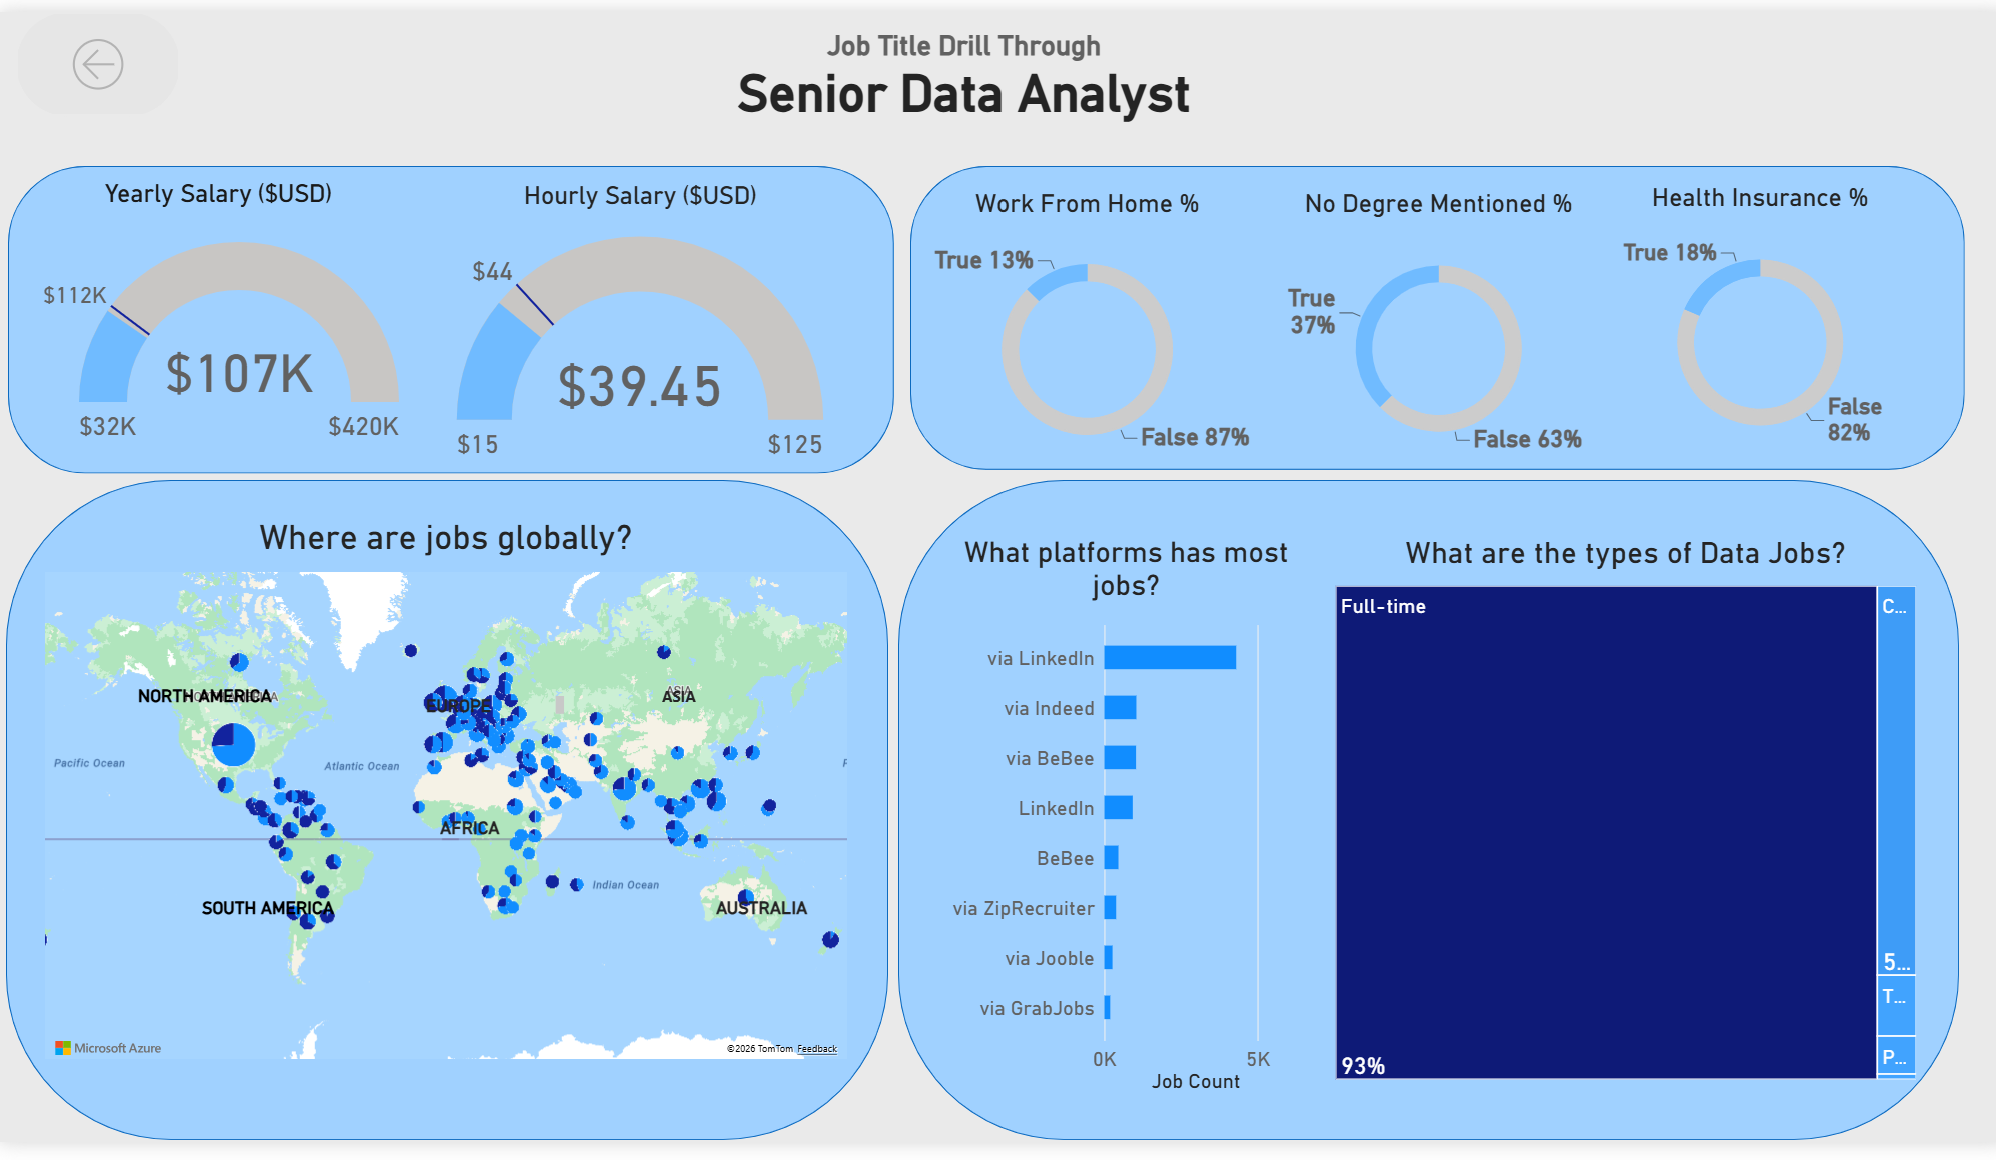

Layout of this report page (visuals, bound fields, positions):
{"tool":"powerbi","page":{"name":"Job Title Drill Through","canvas":[1920,1080],"ordinal":1},"visuals":[{"type":"group","id":"g1","title":"Background 2","box":[34.3,152.8,1869.4,926.4],"z":0},{"type":"shape","box":[35.6,153.1,847.1,294.1],"z":0,"group":"g1"},{"type":"cardVisual","fields":{"Data":["Min(job_postings_flat.job_title_short)1"]},"box":[533.3,0,780.4,151],"z":1000},{"type":"shape","box":[890.5,456.6,1013.2,622.6],"z":1000,"group":"g1"},{"type":"actionButton","box":[17.6,0,156.9,100],"z":2000},{"type":"shape","box":[34.3,468.8,847.1,605.9],"z":2000,"group":"g1"},{"type":"gauge","title":" Yearly Salary ($USD)","fields":{"MaxValue":["Max(job_postings_flat.salary_year_avg)1"],"MinValue":["Min(job_postings_flat.salary_year_avg)"],"TargetValue":["Avg(job_postings_flat.salary_year_avg)2"],"Y":["Median(job_postings_flat.salary_year_avg)"]},"box":[49,151,378.4,298],"z":3000},{"type":"shape","box":[896.2,152.8,1007.5,290.6],"z":3000,"group":"g1"},{"type":"gauge","title":"Hourly Salary ($USD)","fields":{"MaxValue":["Max(job_postings_flat.salary_hour_avg)2"],"MinValue":["Min(job_postings_flat.salary_hour_avg)1"],"TargetValue":["Avg(job_postings_flat.salary_hour_avg)3"],"Y":["Median(job_postings_flat.salary_hour_avg)"]},"box":[474.5,151,382.4,305.9],"z":4000},{"type":"donutChart","title":"Work From Home %","fields":{"Category":["job_postings_flat.job_work_from_home"],"Y":["CountNonNull(job_postings_flat.job_work_from_home)"]},"box":[896.1,152.9,360.8,294.1],"z":5000},{"type":"donutChart","title":"No Degree Mentioned %","fields":{"Category":["job_postings_flat.job_no_degree_mention"],"Y":["CountNonNull(job_postings_flat.job_work_from_home)"]},"box":[1239.2,152.9,332.1,292.5],"z":6000},{"type":"donutChart","title":"Health Insurance %","fields":{"Category":["job_postings_flat.job_health_insurance"],"Y":["CountNonNull(job_postings_flat.job_work_from_home)"]},"box":[1572.5,151,331.4,292.2],"z":7000},{"type":"azureMap","title":"Where are jobs globally?","fields":{"Category":["job_postings_flat.job_country"],"Series":["job_postings_flat.job_no_degree_mention"],"Size":["CountNonNull(job_postings_flat.job_title_short)"]},"box":[49,468.6,807.8,554.9],"z":8000},{"type":"treemap","title":"What are the types of Data Jobs?","fields":{"Group":["job_postings_flat.job_schedule_type"],"Values":["CountNonNull(job_postings_flat.job_schedule_type)"]},"box":[1239.2,482.4,641.2,566.7],"z":9000},{"type":"barChart","title":"What platforms has most jobs?","fields":{"Category":["job_postings_flat.job_via"],"Y":["CountNonNull(job_postings_flat.job_via)"]},"box":[890.2,517.6,366.7,562.7],"z":10000}]}

Visuals, with their boxes on the page's 1920x1080 design canvas (x1, y1, x2, y2). These are canvas units, not pixel positions in the 1996x1160 screenshot, which may show the page scaled, cropped or inside an application window:
"Background 2" group: (left=34, top=153, right=1904, bottom=1079)
shape: (left=36, top=153, right=883, bottom=447)
cardVisual - Min(job_postings_flat.job_title_short)1: (left=533, top=0, right=1314, bottom=151)
shape: (left=890, top=457, right=1904, bottom=1079)
actionButton: (left=18, top=0, right=174, bottom=100)
shape: (left=34, top=469, right=881, bottom=1075)
" Yearly Salary ($USD)" gauge: (left=49, top=151, right=427, bottom=449)
shape: (left=896, top=153, right=1904, bottom=443)
"Hourly Salary ($USD)" gauge: (left=474, top=151, right=857, bottom=457)
"Work From Home %" donutChart: (left=896, top=153, right=1257, bottom=447)
"No Degree Mentioned %" donutChart: (left=1239, top=153, right=1571, bottom=445)
"Health Insurance %" donutChart: (left=1572, top=151, right=1904, bottom=443)
"Where are jobs globally?" azureMap: (left=49, top=469, right=857, bottom=1024)
"What are the types of Data Jobs?" treemap: (left=1239, top=482, right=1880, bottom=1049)
"What platforms has most jobs?" barChart: (left=890, top=518, right=1257, bottom=1080)
